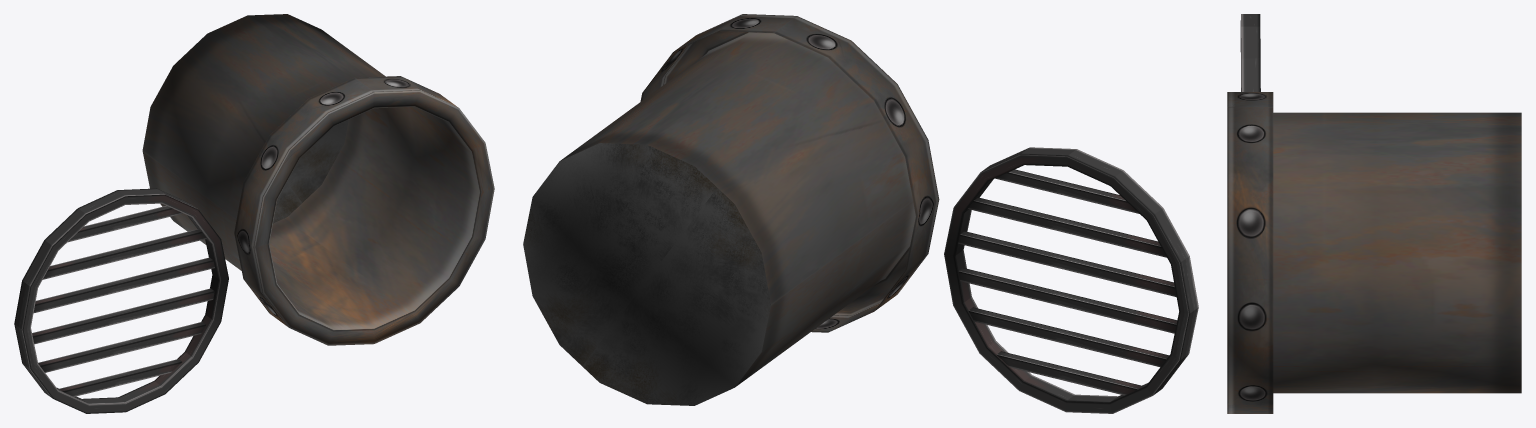
Rendered from Big_Pipe.fbx.
The picture shows the model from 3 angles, left to right: view 1: azimuth 30°, elevation 25°; view 2: azimuth 150°, elevation 25°; view 3: azimuth 270°, elevation 25°; orthographic projection. The views are drawn at different scales.
Visible parts, largest first — view 1: BigPipe, BigPipeLid; view 2: BigPipe, BigPipeLid; view 3: BigPipe, BigPipeLid.
Part boxes in pixels (x1,y1,x2,y2): BigPipe: (142, 14, 494, 345); BigPipeLid: (14, 188, 228, 413); BigPipe: (523, 14, 939, 405); BigPipeLid: (944, 147, 1198, 413); BigPipe: (1227, 92, 1521, 413); BigPipeLid: (1240, 14, 1260, 91).
Size of the model in its own units: 1189 by 647 by 560.
